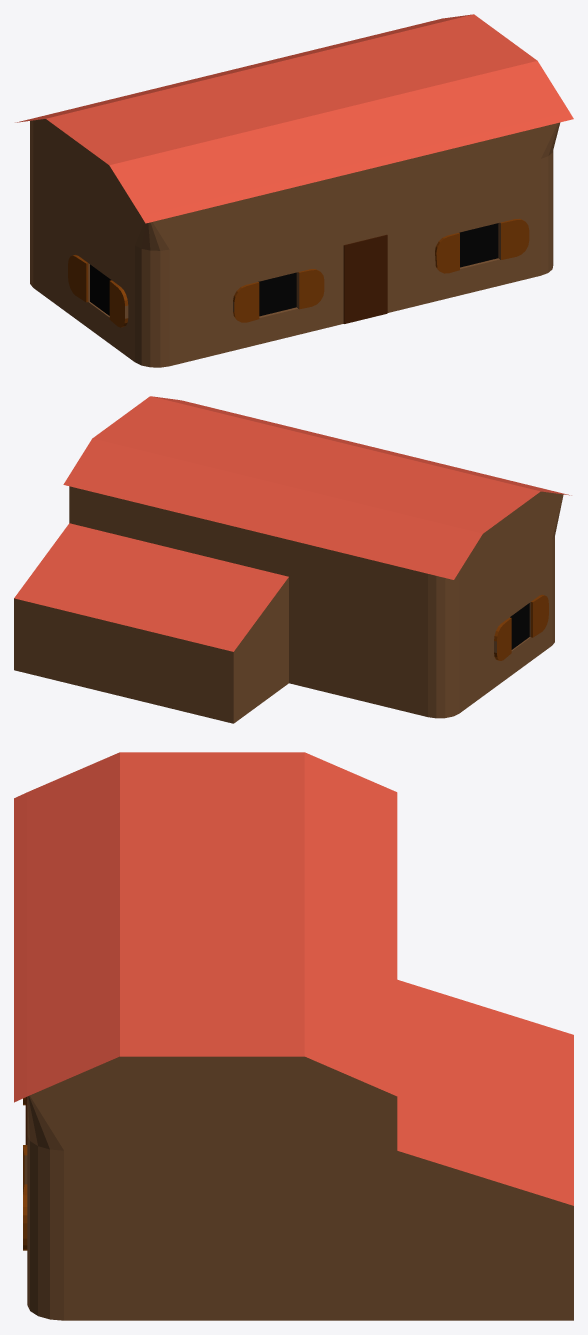
File: BatimentMaison.fbx
The picture shows the model from 3 angles, top to bottom: view 1: azimuth 30°, elevation 25°; view 2: azimuth 150°, elevation 25°; view 3: azimuth 270°, elevation 25°; orthographic projection. The views are drawn at different scales.
Visible parts, largest first — view 1: Base; view 2: Base; view 3: Base.
Part boxes in pixels (x1,y1,x2,y2): Base: (15, 14, 573, 367); Base: (14, 396, 571, 723); Base: (14, 752, 573, 1320).
Size of the model in its own units: 591 by 244 by 460.
